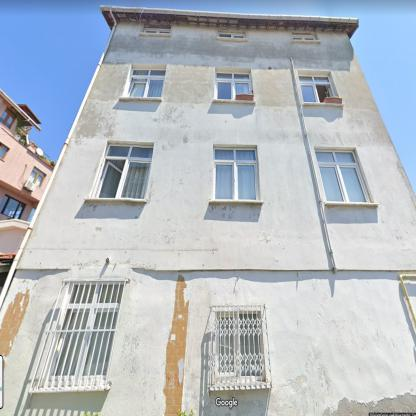window: (50, 284, 122, 378), (93, 146, 152, 198), (218, 315, 260, 376), (317, 151, 368, 201), (214, 150, 256, 200), (126, 70, 166, 98), (300, 76, 336, 102), (217, 74, 250, 98), (1, 196, 25, 219), (30, 168, 44, 187), (0, 109, 15, 126), (220, 33, 243, 38), (1, 146, 7, 158), (294, 37, 316, 40), (146, 31, 170, 33)
